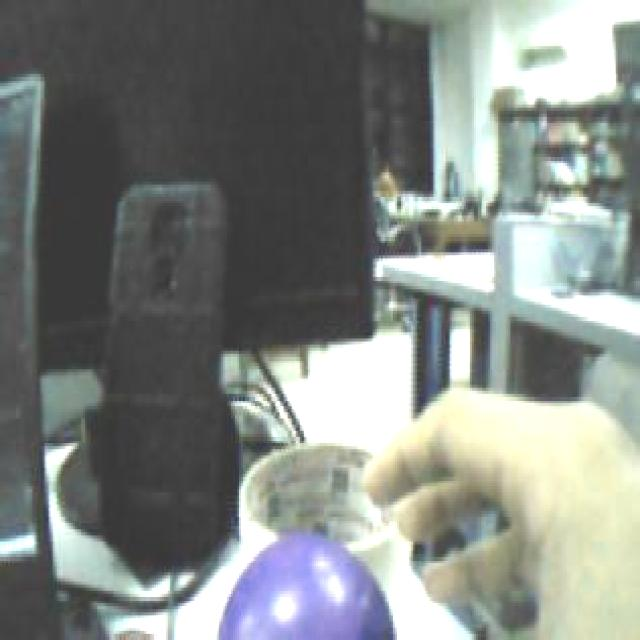BallPurple: (214, 531, 397, 640)
